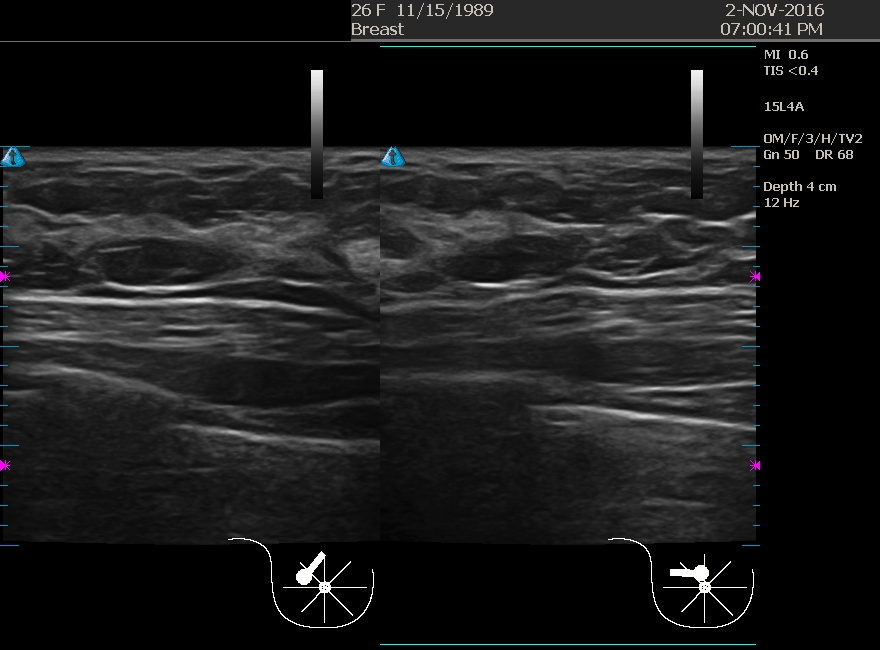BIRADS_3: (408, 149, 609, 349), (60, 151, 260, 351)
